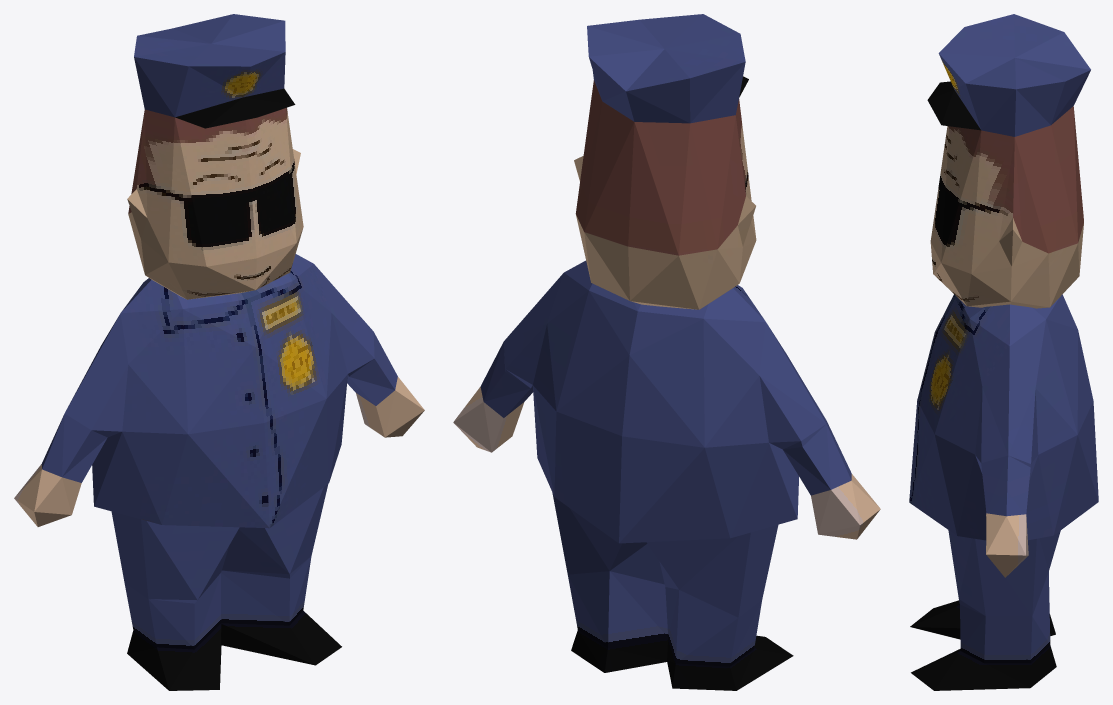
The model's file is Barbrady.obj.
The picture shows the model from 3 angles, left to right: view 1: azimuth 30°, elevation 25°; view 2: azimuth 150°, elevation 25°; view 3: azimuth 270°, elevation 25°; orthographic projection. The views are drawn at different scales.
Parts seen in each view (by area): view 1: default; view 2: default; view 3: default.
Part boxes in pixels (<box>): default: <box>14,14,424,690</box>; default: <box>453,14,880,690</box>; default: <box>909,14,1098,690</box>.
Bounding box in the file's own units: 2.82 × 4.16 × 1.19.
